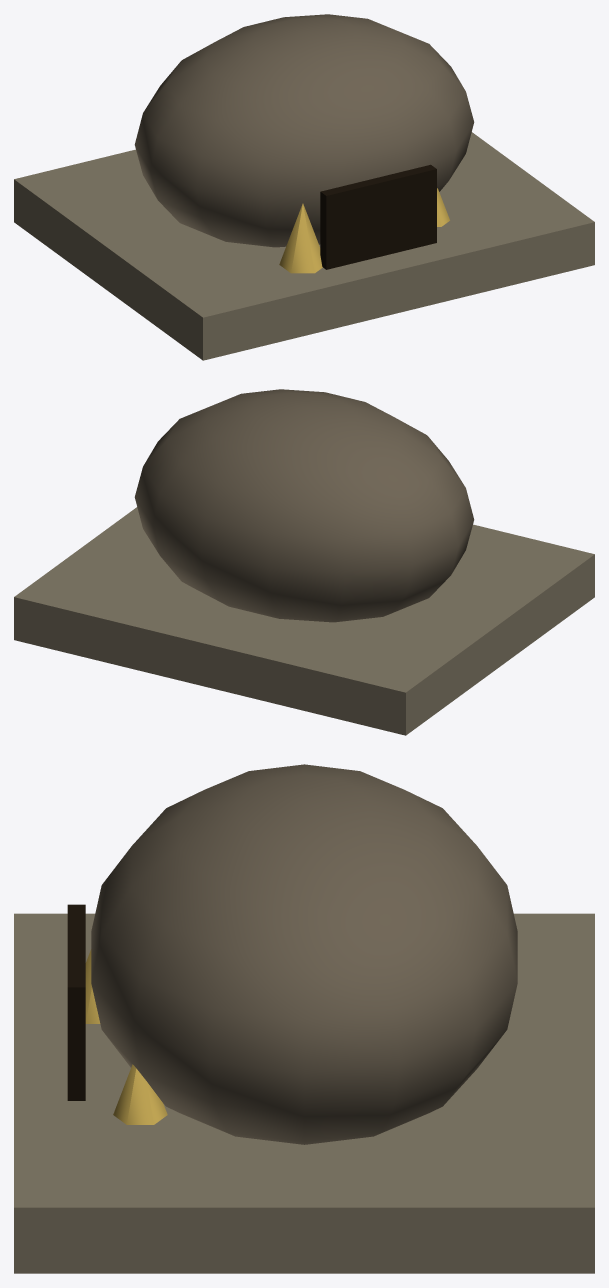
The model's file is goldmine.glb.
3 views of the same model, one above another, from view 1: azimuth 30°, elevation 25°; view 2: azimuth 150°, elevation 25°; view 3: azimuth 270°, elevation 25° (orthographic). The views are drawn at different scales.
Visible parts, largest first — view 1: goldmine-rock-footprint, goldmine-main-rock, goldmine-dark-mouth, goldmine-gold-crystal-0; view 2: goldmine-rock-footprint, goldmine-main-rock; view 3: goldmine-main-rock, goldmine-rock-footprint, goldmine-dark-mouth, goldmine-gold-crystal-1.
Part boxes in pixels (<box>): goldmine-rock-footprint: <box>14,132,594,360</box>; goldmine-main-rock: <box>134,14,474,247</box>; goldmine-dark-mouth: <box>320,164,436,269</box>; goldmine-gold-crystal-0: <box>279,203,322,273</box>; goldmine-rock-footprint: <box>14,507,594,735</box>; goldmine-main-rock: <box>134,389,474,622</box>; goldmine-main-rock: <box>91,764,517,1144</box>; goldmine-rock-footprint: <box>14,913,594,1273</box>; goldmine-dark-mouth: <box>67,904,85,1100</box>; goldmine-gold-crystal-1: <box>113,1064,167,1124</box>.
Size of the model in its own units: 3.05 by 1.57 by 2.55.
